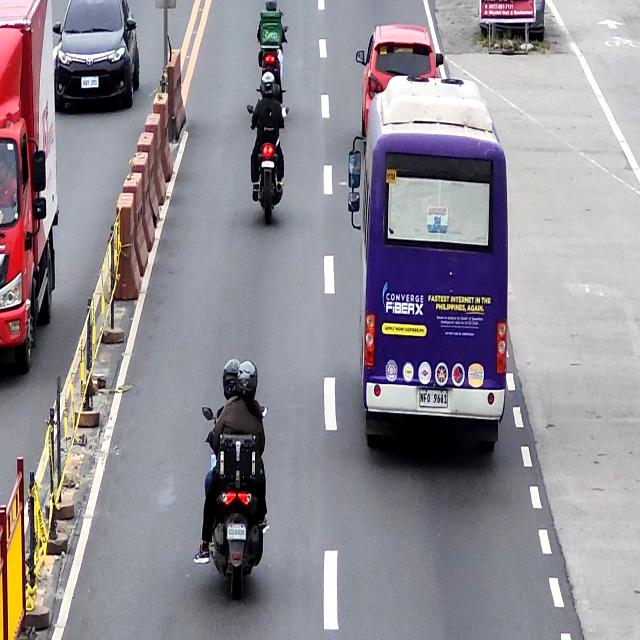Bus: (348, 74, 510, 464)
Car: (358, 23, 444, 133)
License-Plate: (419, 387, 448, 409), (225, 522, 248, 540)
Motorcycle: (203, 403, 267, 603), (247, 100, 289, 223), (257, 20, 289, 96)
